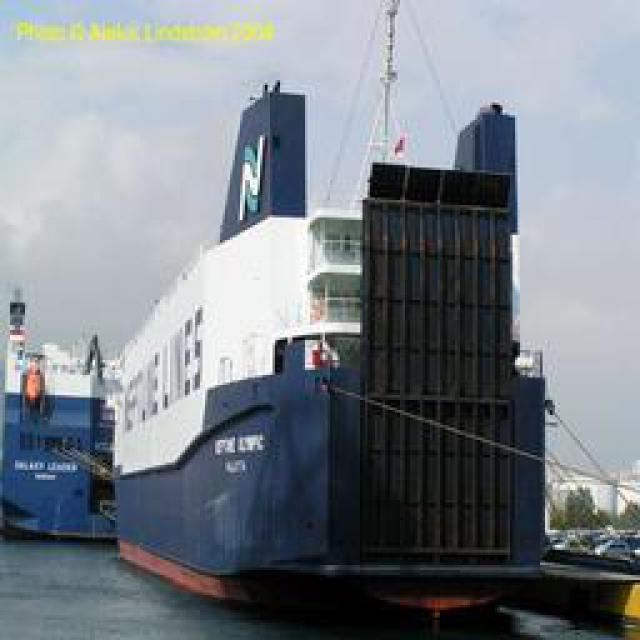Ship: (108, 1, 575, 633)
